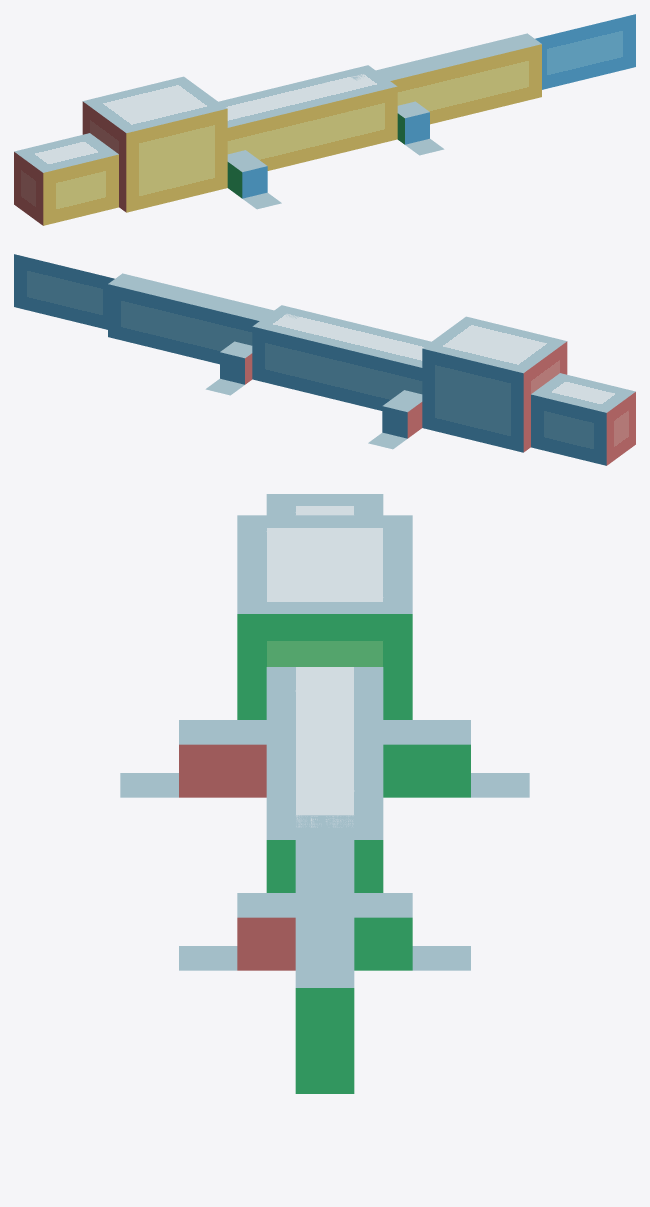
File: dd_olm.obj
3 renders of one model, top to bottom at view 1: azimuth 30°, elevation 25°; view 2: azimuth 150°, elevation 25°; view 3: azimuth 270°, elevation 25°, orthographic. The views are drawn at different scales.
Visible parts, largest first — view 1: head1, body, tail2, head2, tail1, leg2, paddle2; view 2: head1, body, tail2, head2, tail1, leg3, leg1, paddle1, paddle3; view 3: head1, body, tail2, leg2, leg3, leg1, paddle2, head2, paddle1, paddle3.
Boxes of the visible parts, <box> form: head1: <box>82,76,227,212</box>; body: <box>218,65,397,170</box>; tail2: <box>351,33,541,124</box>; head2: <box>14,133,118,225</box>; tail1: <box>535,14,635,89</box>; leg2: <box>227,101,429,198</box>; paddle2: <box>242,138,444,209</box>; head1: <box>422,316,567,452</box>; body: <box>252,305,431,410</box>; tail2: <box>108,273,298,364</box>; head2: <box>531,373,635,465</box>; tail1: <box>14,254,114,329</box>; leg3: <box>382,390,422,438</box>; leg1: <box>220,341,252,384</box>; paddle1: <box>205,378,244,395</box>; paddle3: <box>368,432,407,449</box>; head1: <box>237,515,412,719</box>; body: <box>266,667,383,892</box>; tail2: <box>295,815,354,1093</box>; leg2: <box>179,720,295,970</box>; leg3: <box>383,720,470,797</box>; leg1: <box>354,893,412,970</box>; paddle2: <box>120,773,237,970</box>; head2: <box>266,494,383,515</box>; paddle1: <box>412,946,470,970</box>; paddle3: <box>471,773,529,797</box>.
Size of the model in its own units: 1.5 by 0.1875 by 0.4375.
Materials: 1 (1 with a texture image).
